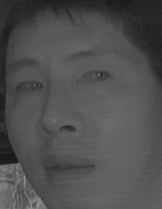eye: (76, 67, 113, 90), (12, 78, 45, 97)
mouth: (39, 150, 95, 182)
